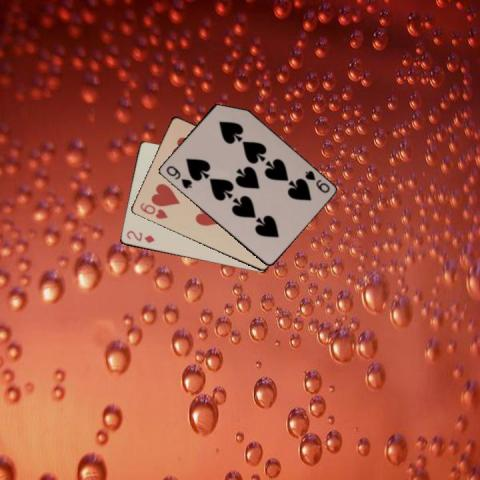2d: (123, 228, 156, 245)
6h: (136, 199, 168, 221)
9s: (302, 167, 332, 195), (163, 163, 193, 190)
